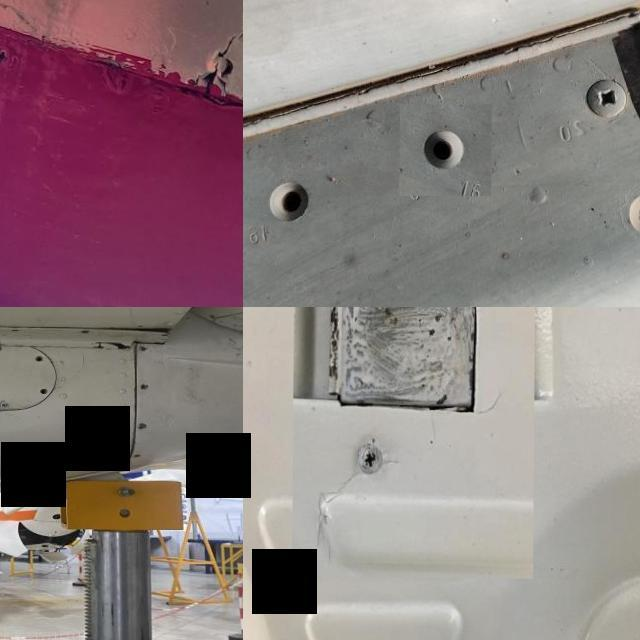Crack: (292, 307, 535, 578), (183, 0, 243, 103)
Missing_Fastener: (243, 151, 338, 246), (400, 104, 492, 196), (601, 162, 640, 268), (35, 356, 45, 362), (40, 388, 49, 394), (140, 383, 148, 389), (134, 453, 140, 458)
